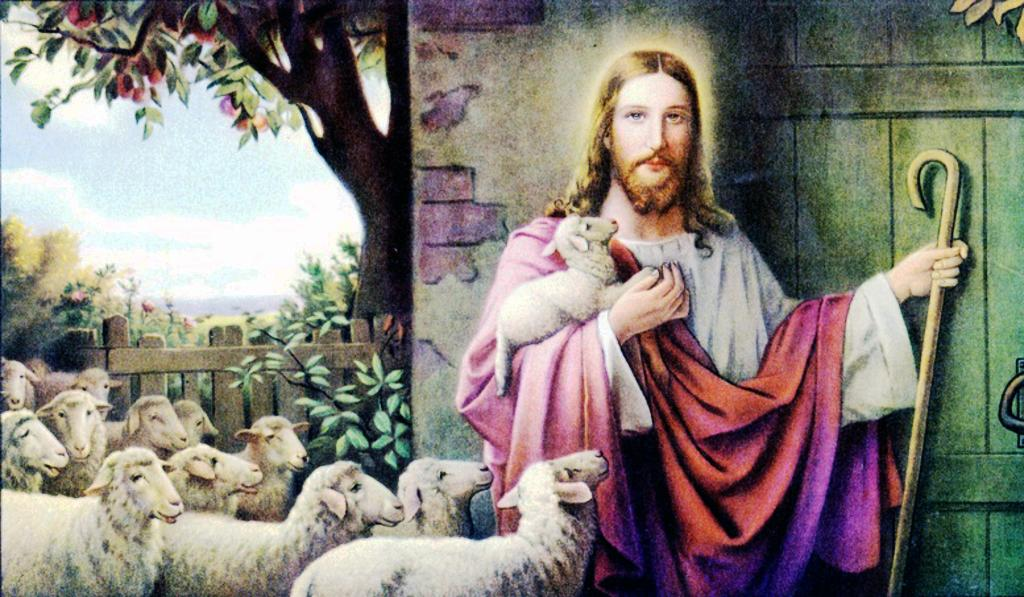Sheep: (294, 448, 592, 594), (150, 459, 412, 594), (494, 214, 652, 407), (2, 447, 181, 594), (228, 416, 312, 522), (384, 458, 493, 539), (41, 389, 114, 497), (162, 445, 261, 517), (3, 398, 74, 495), (112, 395, 190, 461), (37, 367, 125, 415), (0, 360, 61, 407)
